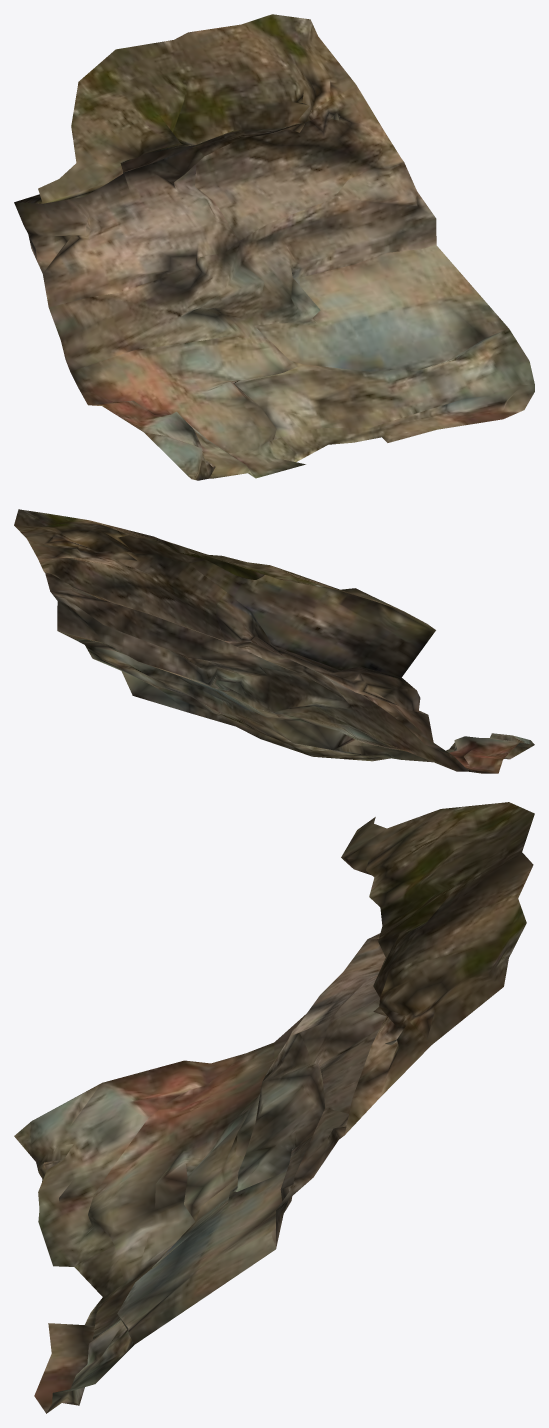
The model's file is rock_face_01_lod1.glb.
The picture shows the model from 3 angles, top to bottom: view 1: azimuth 30°, elevation 25°; view 2: azimuth 150°, elevation 25°; view 3: azimuth 270°, elevation 25°; orthographic projection. The views are drawn at different scales.
Parts seen in each view (by area): view 1: rock_face_01; view 2: rock_face_01; view 3: rock_face_01.
Part boxes in pixels (<box>): rock_face_01: <box>14,14,534,480</box>; rock_face_01: <box>14,509,534,773</box>; rock_face_01: <box>14,802,534,1413</box>.
Bounding box in the file's own units: 4.95 × 3.56 × 3.82.
Materials: 1 (1 with a texture image).
